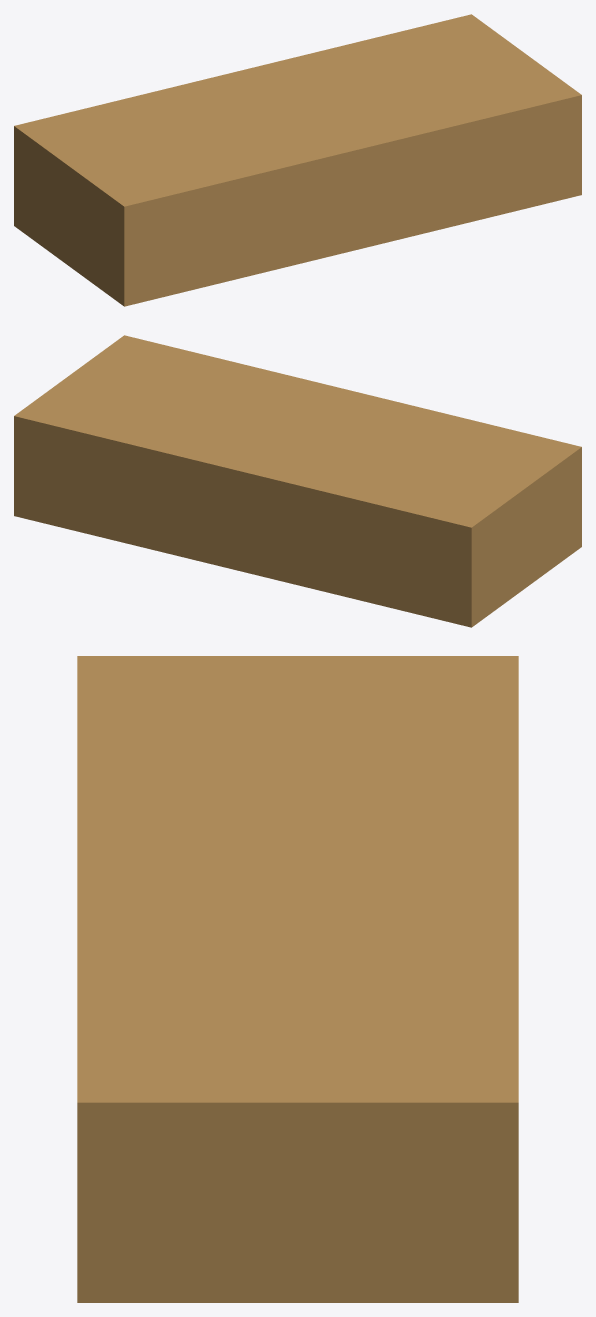
The picture shows the model from 3 angles, top to bottom: view 1: azimuth 30°, elevation 25°; view 2: azimuth 150°, elevation 25°; view 3: azimuth 270°, elevation 25°; orthographic projection. The views are drawn at different scales.
Parts seen in each view (by area): view 1: RUN-046-S00-bottom_plate; view 2: RUN-046-S00-bottom_plate; view 3: RUN-046-S00-bottom_plate.
Part boxes in pixels (x1,y1,x2,y2): RUN-046-S00-bottom_plate: [14, 14, 581, 306]; RUN-046-S00-bottom_plate: [14, 335, 581, 627]; RUN-046-S00-bottom_plate: [77, 656, 518, 1302].
Bounding box in the file's own units: 0.2155 × 0.045 × 0.09.
